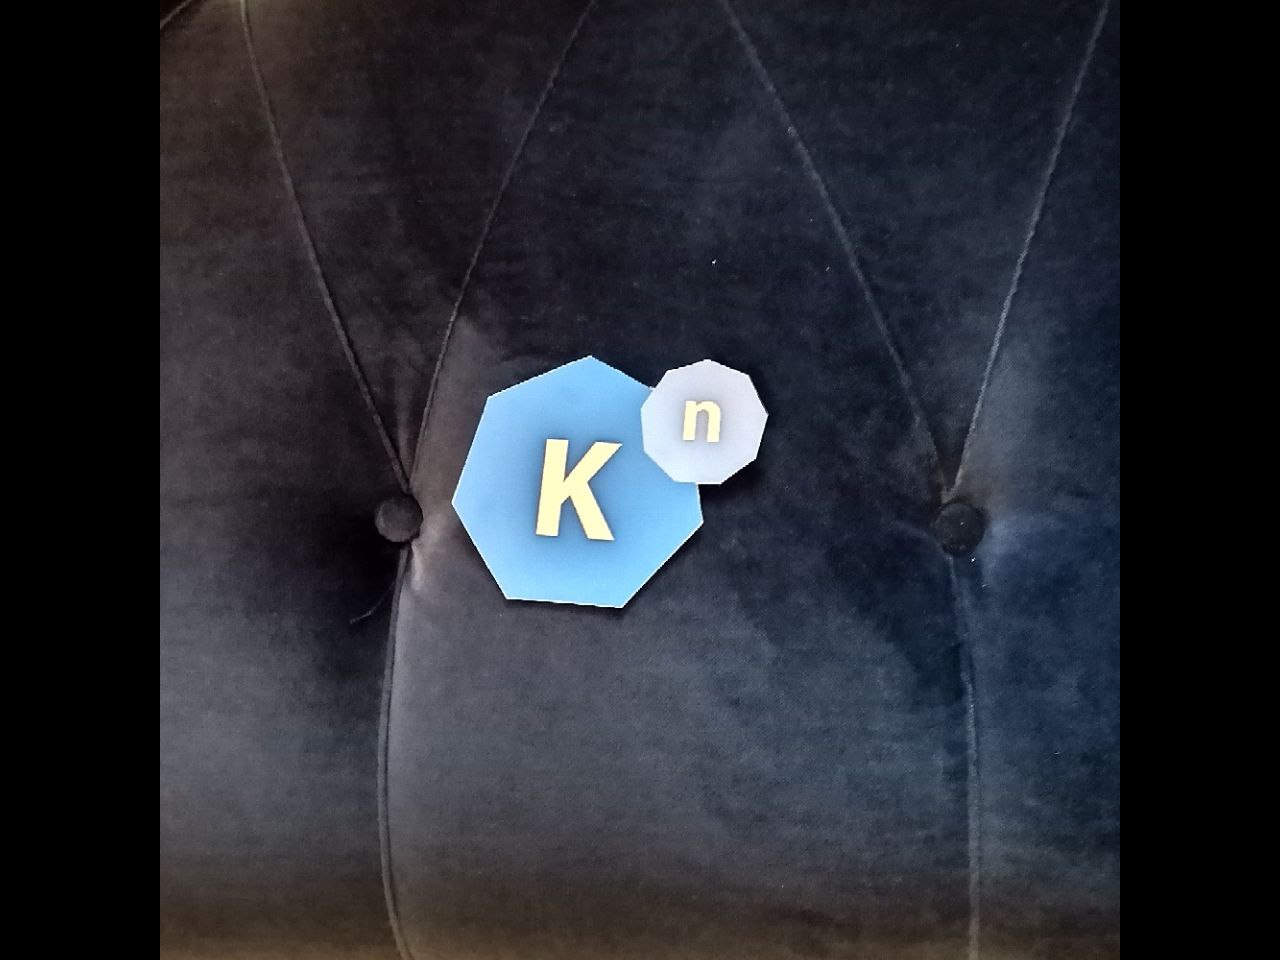knative: (454, 350, 773, 614)
